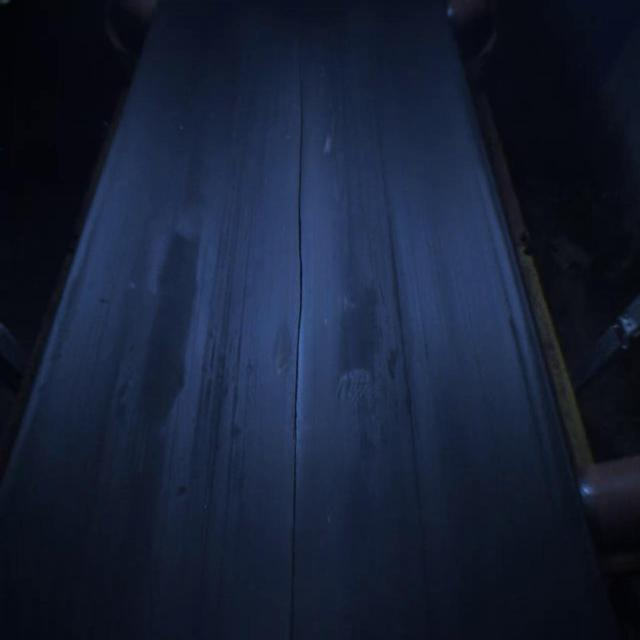Tear: (277, 49, 313, 640)
